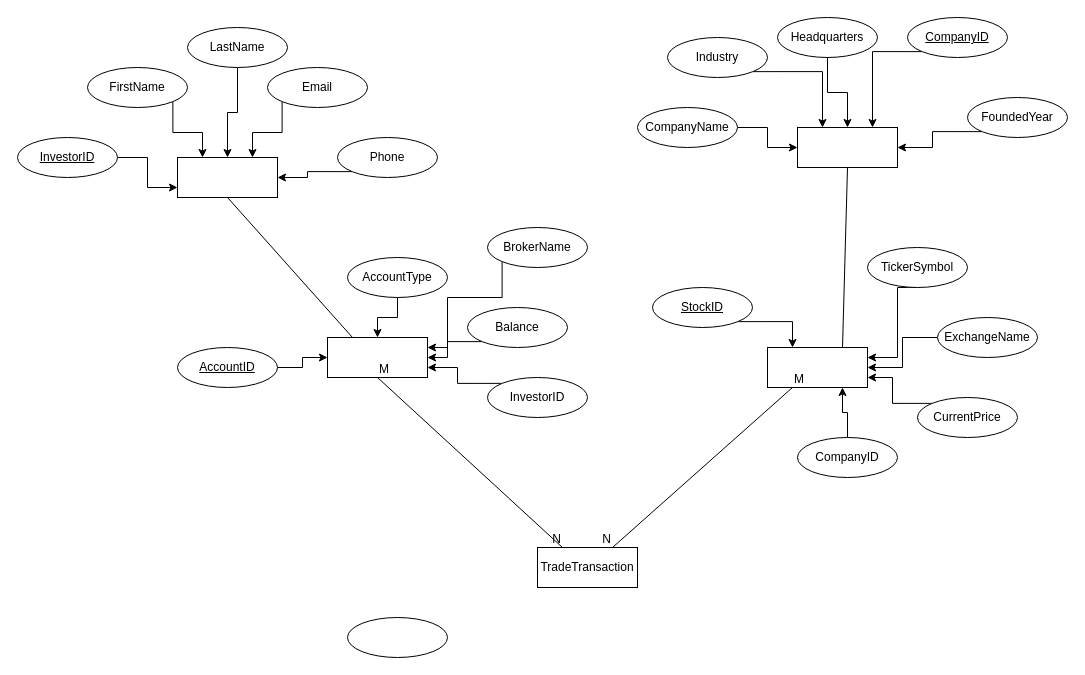
Some shapes in this 1085 by 675 pixel diagram are drawn without their labels. The shapes that lost their labels are listed below. From the top down, each one's centre as x and y in pixels, then its label:
the point at 847,147: Company
the point at 227,177: Investor
the point at 377,357: BrokerageAccount
the point at 817,367: Stock
the point at 397,637: TransactionID
